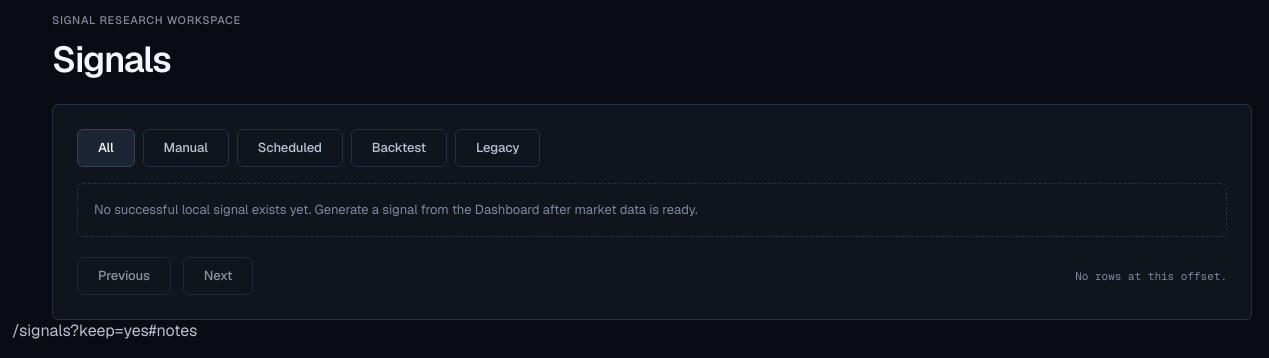
Scenario: normalizes invalid URL source values and prevents stale source responses from replacing current data
Expected: the text with test id "location-probe" reads "/signals?keep=yes#notes", [12,320,197,341]
Click the button "Backtest" at x=399, y=148, box [351,129,447,167]
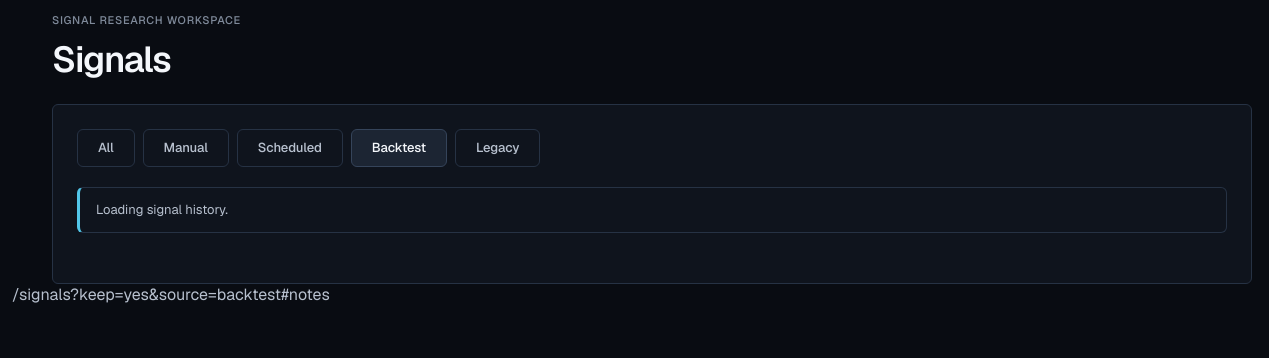
Click the button "Legacy" at x=498, y=148, box [455,129,540,167]
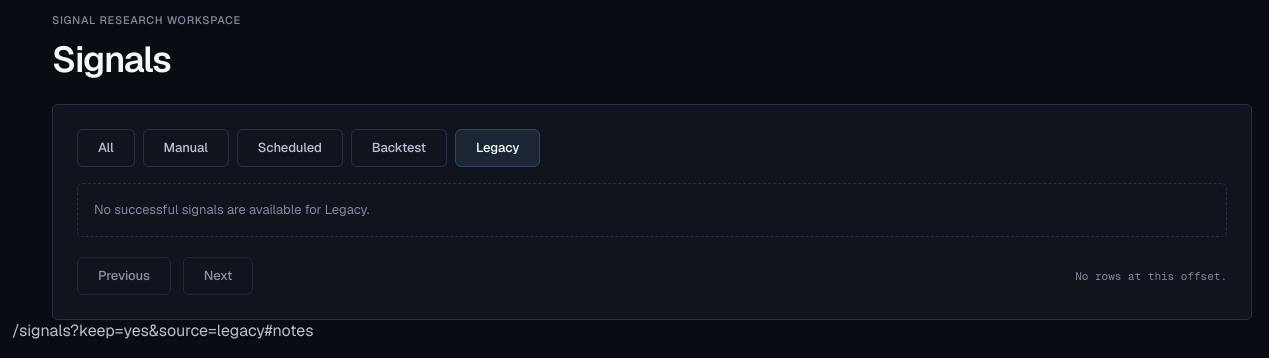
Expected: the text "No successful signals are available for Legacy." is shown, [77,183,1227,237]
